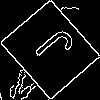J: (25, 25, 77, 74)
